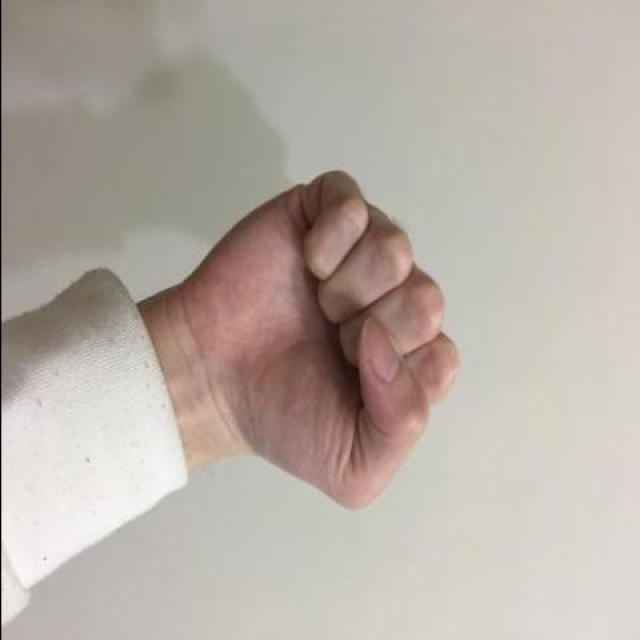Closed Hand: (182, 167, 494, 517)
